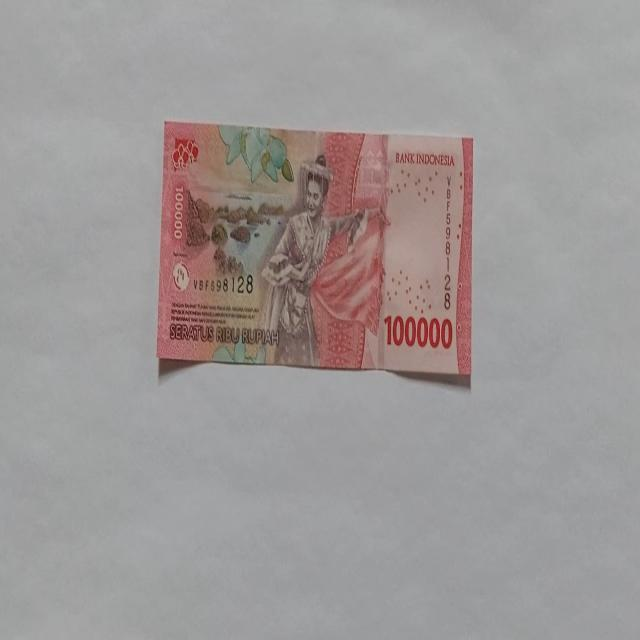seratus ribu rupiah: (156, 121, 474, 382), (256, 153, 386, 368)
